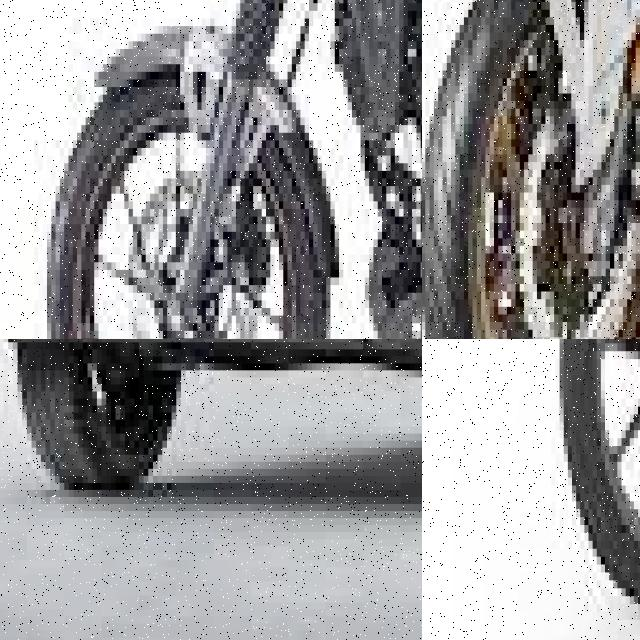bike: (38, 0, 422, 339), (422, 0, 640, 339), (555, 339, 640, 620)
car: (0, 339, 422, 616)
